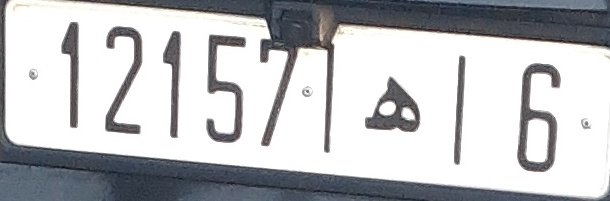1: (55, 19, 86, 130), (158, 25, 187, 140)
2: (101, 25, 147, 133)
5: (201, 31, 247, 146)
6: (513, 60, 563, 177)
7: (255, 35, 299, 149)
h: (359, 71, 422, 135)
